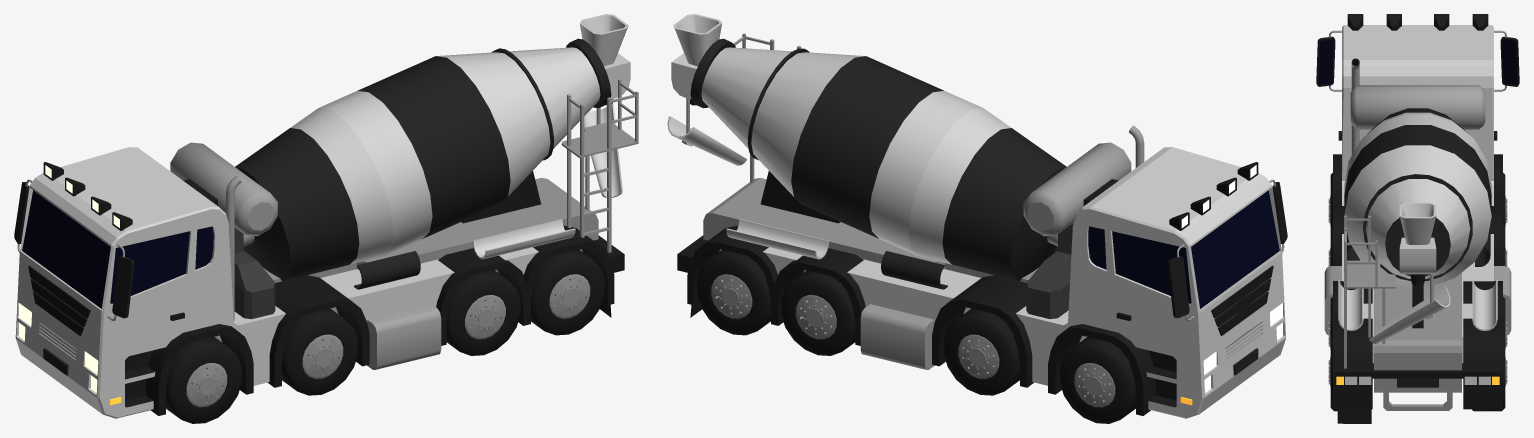
File: pump.gltf
The picture shows the model from 3 angles, left to right: view 1: azimuth 30°, elevation 25°; view 2: azimuth 150°, elevation 25°; view 3: azimuth 270°, elevation 25°; orthographic projection. The views are drawn at different scales.
Visible parts, largest first — view 1: truckMixer; view 2: truckMixer; view 3: truckMixer.
Boxes of the visible parts, x1,y1,x2,y2 form: truckMixer: [14, 14, 638, 423]; truckMixer: [667, 14, 1287, 423]; truckMixer: [1316, 14, 1519, 423].
Bounding box in the file's own units: 835 × 360 × 284.
